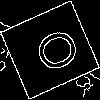O: (25, 25, 83, 80)
